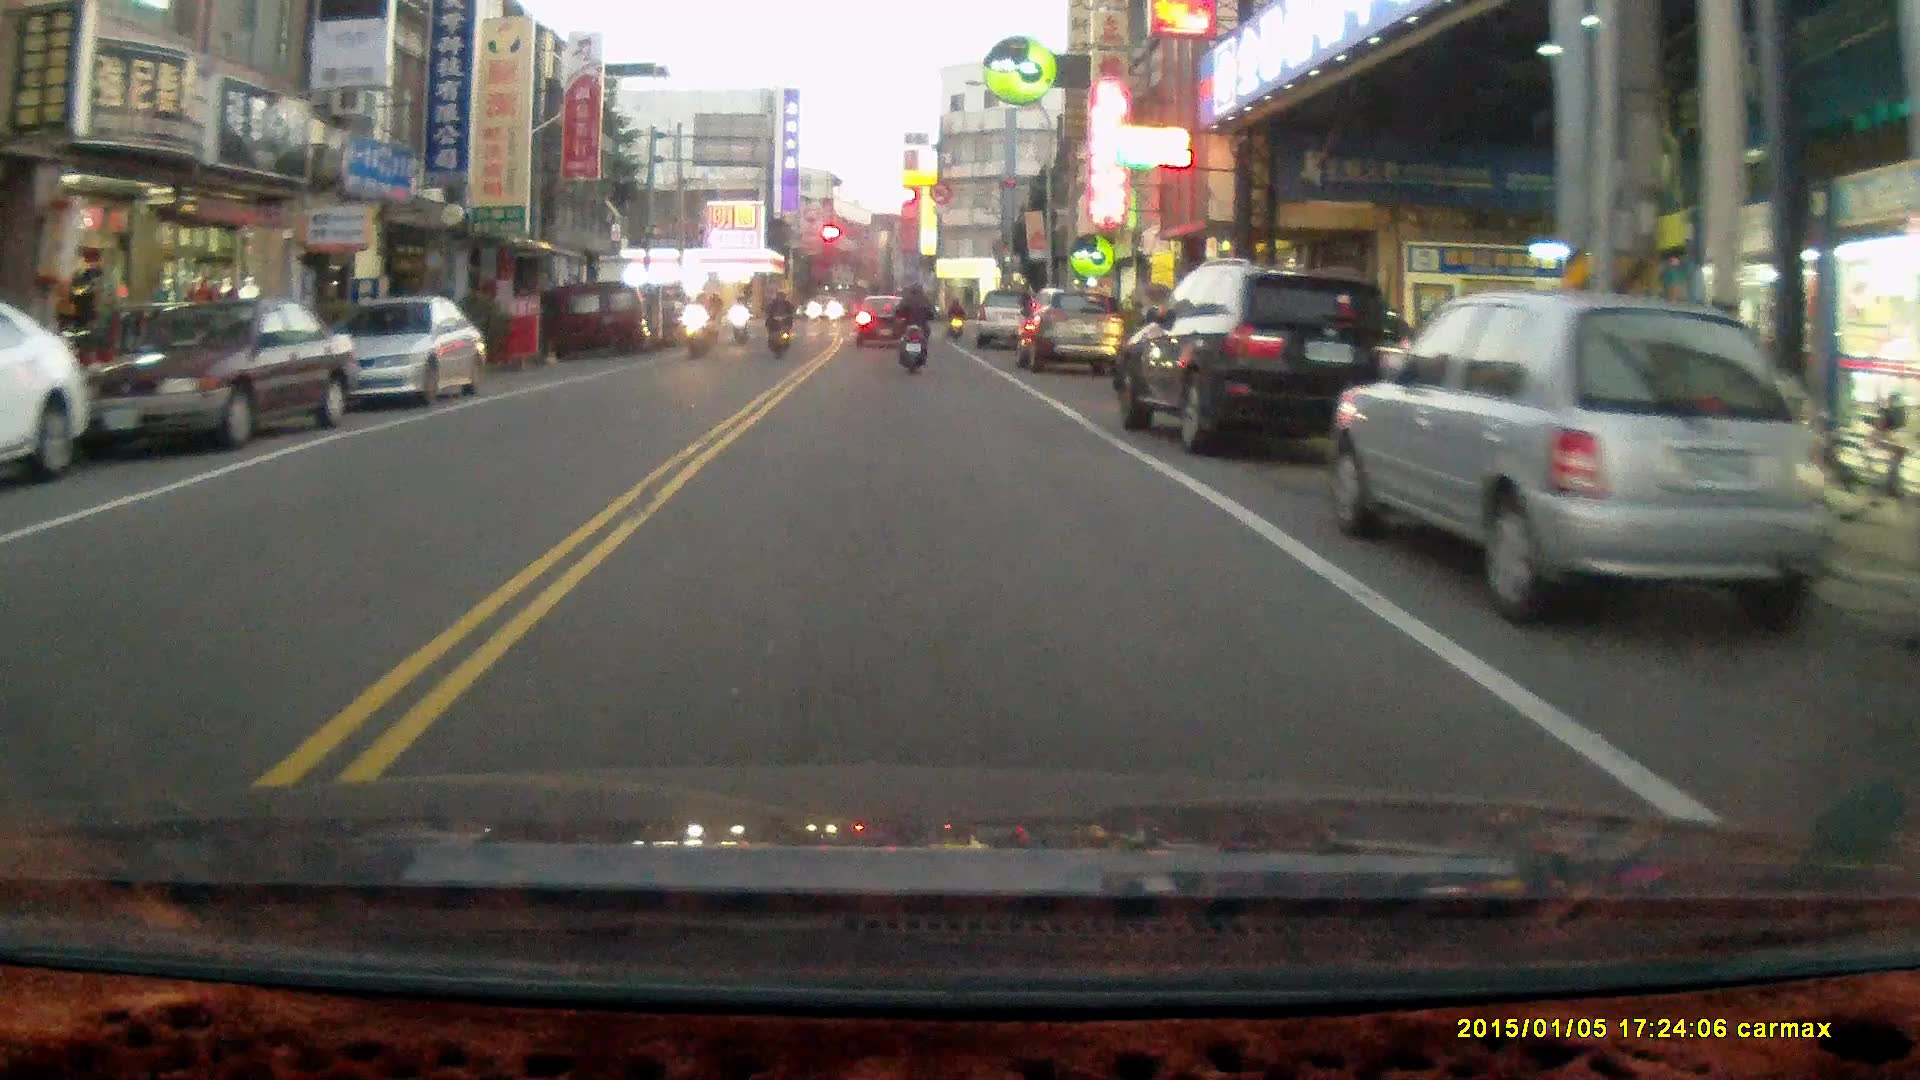rider: (891, 278, 932, 378), (682, 287, 713, 358), (763, 288, 792, 357), (727, 294, 751, 350), (943, 296, 965, 340)
vehicle: (1327, 290, 1841, 617), (1123, 261, 1408, 458), (75, 295, 360, 452), (321, 294, 485, 407), (1, 306, 96, 491), (1016, 293, 1126, 376), (562, 284, 658, 355), (974, 289, 1043, 354)
